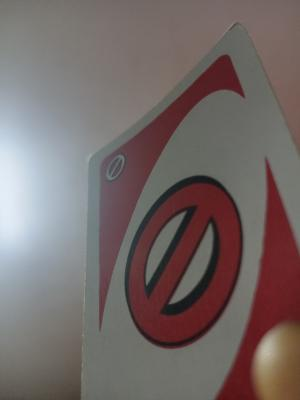skip: (120, 168, 251, 356), (100, 150, 133, 182)
